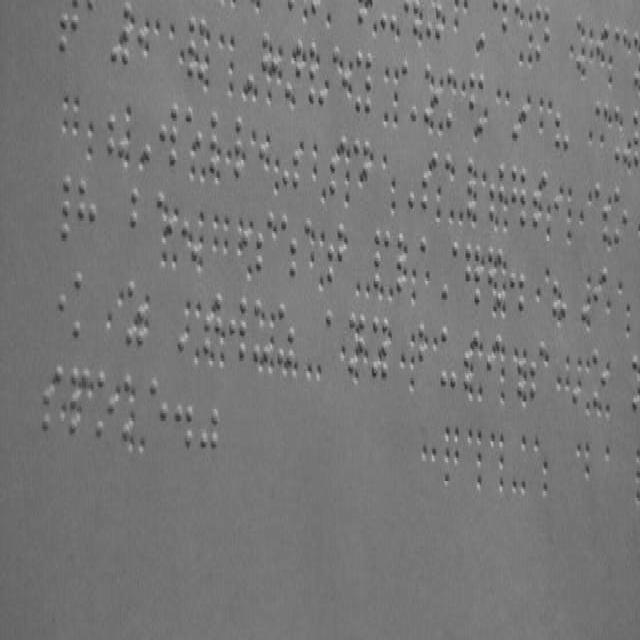braiile: (127, 180, 151, 256), (71, 268, 95, 344), (157, 96, 179, 174), (148, 372, 168, 454), (76, 174, 98, 248), (228, 296, 248, 366), (326, 217, 346, 286), (256, 204, 274, 276), (323, 308, 342, 376), (439, 321, 457, 390), (488, 160, 506, 227), (374, 224, 391, 292), (612, 186, 630, 250)
